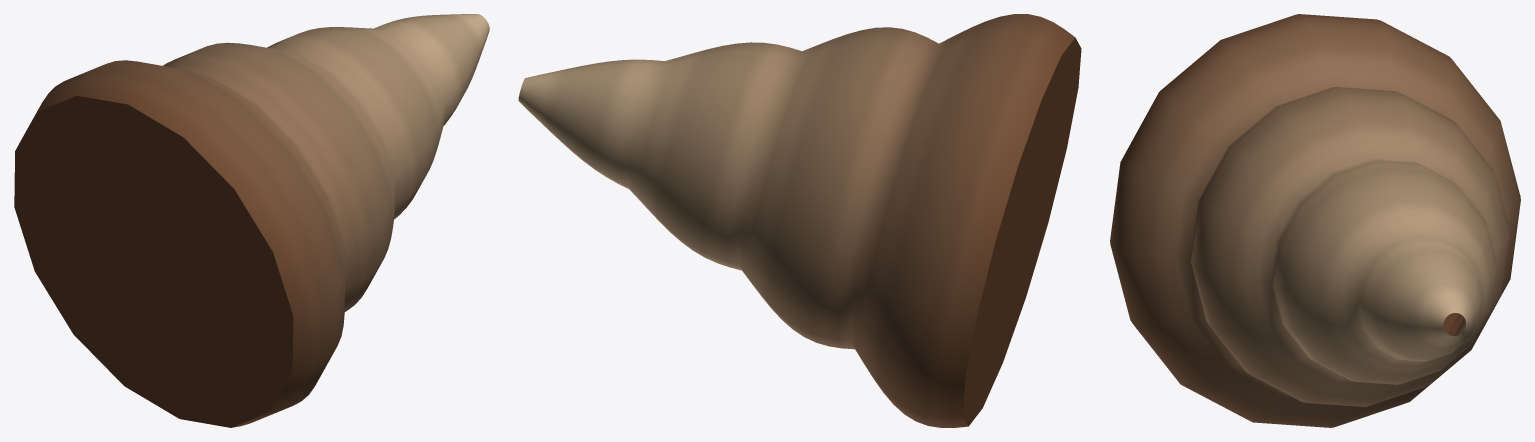
The model's file is item_shell_turban.glb.
3 renders of one model, left to right at view 1: azimuth 30°, elevation 25°; view 2: azimuth 150°, elevation 25°; view 3: azimuth 270°, elevation 25°, orthographic. The views are drawn at different scales.
Parts seen in each view (by area): view 1: item_shell_turban_main; view 2: item_shell_turban_main; view 3: item_shell_turban_main.
Boxes of the visible parts, x1=… form: item_shell_turban_main: x1=14, y1=14, x2=489, y2=427; item_shell_turban_main: x1=518, y1=14, x2=1081, y2=427; item_shell_turban_main: x1=1110, y1=14, x2=1520, y2=427.
Size of the model in its own units: 0.2803 by 0.2087 by 0.205.
